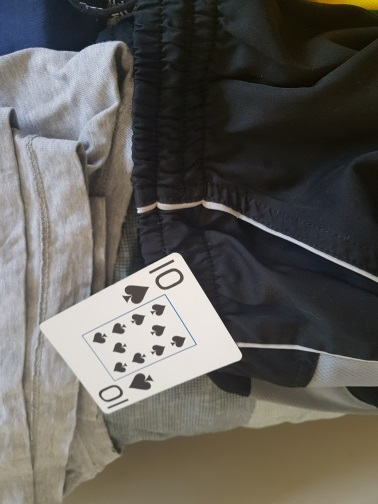ten: (41, 252, 241, 413)
